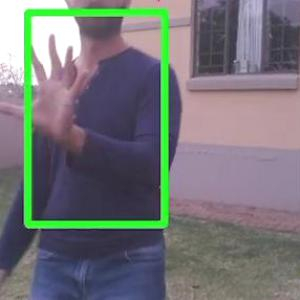follow_hand: (1, 29, 93, 142)
